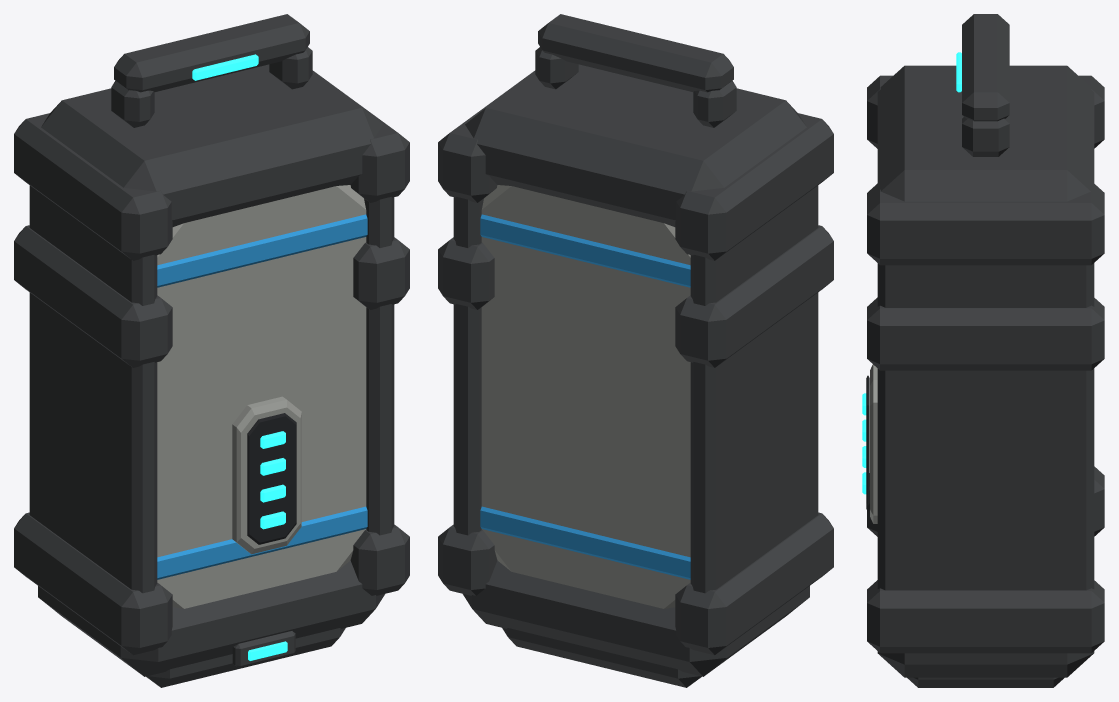
Rendered from 09_shield_cell.fbx.
3 views of the same model, side by side, from view 1: azimuth 30°, elevation 25°; view 2: azimuth 150°, elevation 25°; view 3: azimuth 270°, elevation 25° (orthographic).
Parts seen in each view (by area): view 1: 09_shield_cell; view 2: 09_shield_cell; view 3: 09_shield_cell.
Part boxes in pixels (bbox=[...]): 09_shield_cell: bbox=[14, 14, 409, 687]; 09_shield_cell: bbox=[438, 14, 833, 687]; 09_shield_cell: bbox=[862, 14, 1104, 687].
Size of the model in its own units: 8.8 by 17.6 by 6.51.
